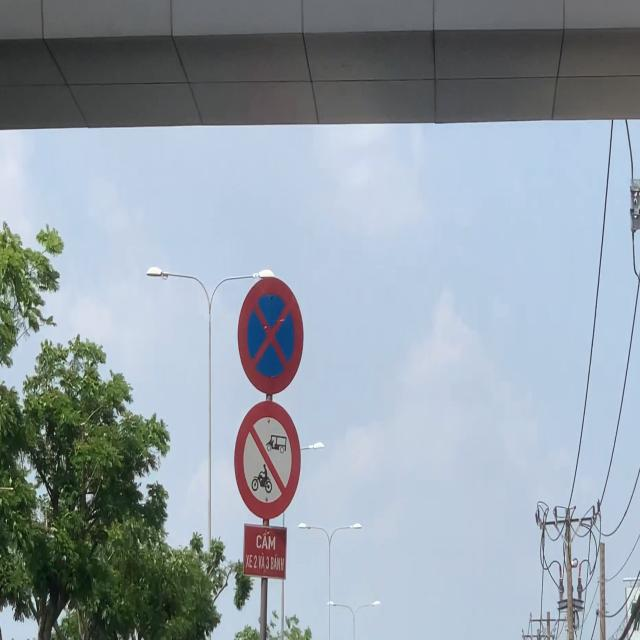Cam con lai: (233, 402, 302, 520)
Cam dung va do: (237, 276, 304, 395)
